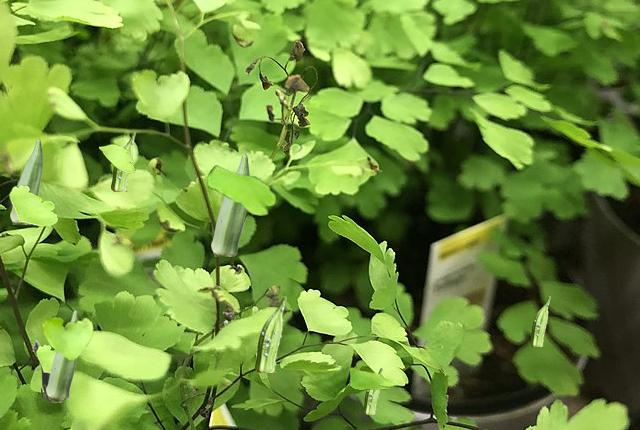okra: (211, 154, 248, 255), (46, 310, 78, 398), (10, 139, 41, 223), (255, 296, 285, 371), (32, 339, 63, 401), (111, 132, 134, 190), (530, 296, 549, 345), (363, 368, 381, 413)
